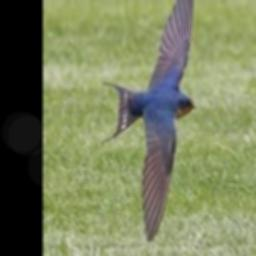Swallow: (101, 0, 197, 242)
